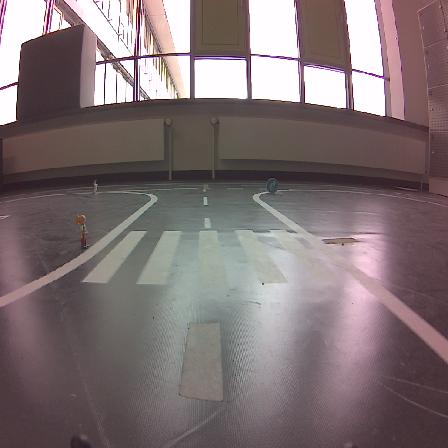CHILD: (76, 214, 89, 249)
RIGHT_TURN: (267, 178, 278, 194)
